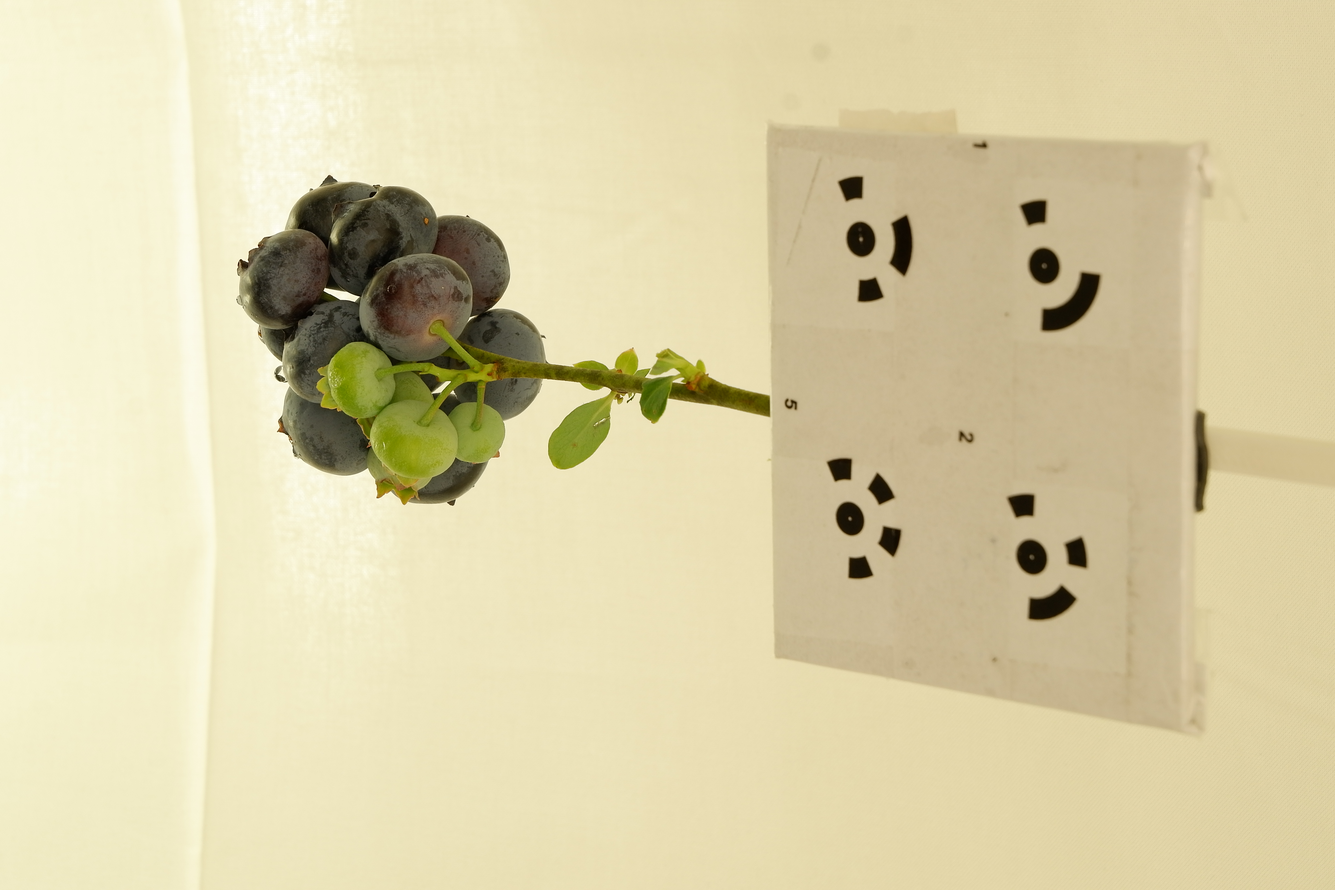Immature: (371, 399, 457, 489), (319, 343, 394, 418), (357, 371, 435, 442), (447, 402, 506, 462), (367, 445, 420, 506)
Mature: (328, 186, 438, 297), (361, 253, 474, 361), (449, 309, 545, 419), (283, 300, 375, 405), (238, 229, 328, 329), (432, 214, 510, 316), (282, 389, 369, 475), (285, 178, 377, 243), (260, 292, 341, 363), (408, 459, 486, 503), (416, 355, 449, 392), (432, 392, 462, 417)
